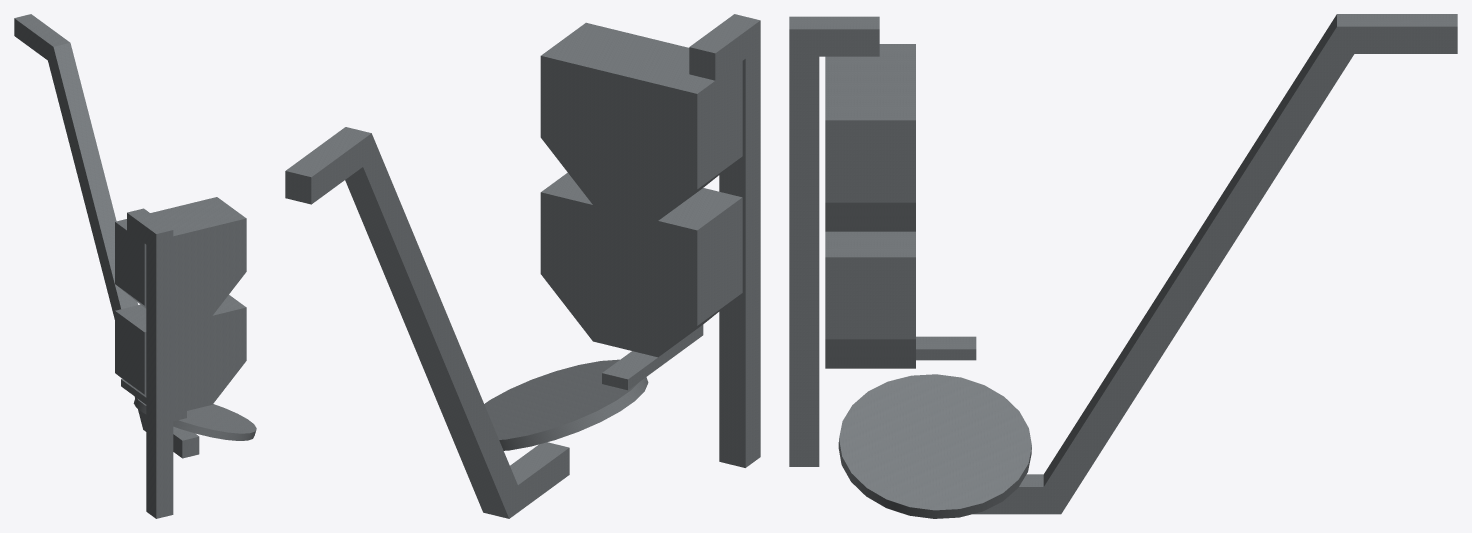
File: 造球机-20220905.glb
3 renders of one model, left to right at view 1: azimuth 30°, elevation 25°; view 2: azimuth 150°, elevation 25°; view 3: azimuth 270°, elevation 25°, orthographic. The views are drawn at different scales.
Parts seen in each view (by area): view 1: object 3, object 2, object 5, 并集, object 1, object 4; view 2: object 3, object 2, 并集, object 5, object 1, object 4; view 3: 并集, object 1, object 3, object 5, object 2, object 4.
Part boxes in pixels (x1,y1,x2,y2): object 3: (115, 197, 246, 325); object 2: (115, 295, 246, 414); object 5: (127, 208, 173, 518); 并集: (14, 14, 199, 458); object 1: (133, 397, 256, 440); object 4: (121, 379, 186, 421); object 3: (540, 22, 742, 220); object 2: (540, 172, 742, 357); 并集: (285, 127, 569, 518); object 5: (689, 14, 760, 467); object 1: (484, 359, 648, 450); object 4: (602, 325, 703, 390); 并集: (973, 14, 1457, 514); object 1: (838, 374, 1031, 518); object 3: (825, 44, 915, 231); object 5: (789, 16, 879, 466); object 2: (825, 231, 915, 368); object 4: (916, 336, 976, 360).
Size of the model in its own units: 4.08 by 9.08 by 11.07.
Materials: 1 (1 with a texture image).
